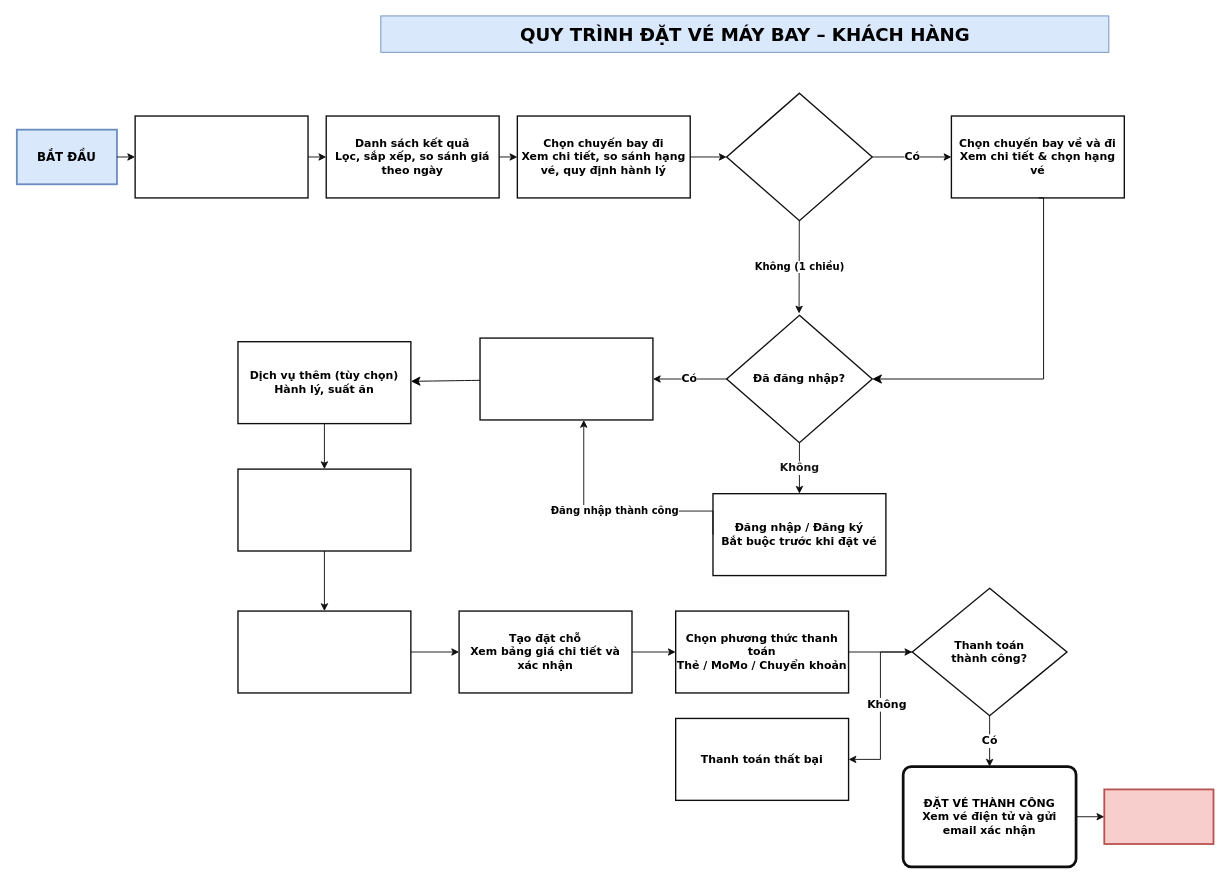
Some shapes in this 1229 by 884 pixel diagram are drawn without their labels. The centre of each missing label's shape, as x and y in pixels:
Chọn chỗ ngồi Sơ đồ ghế máy bay: point (324, 509)
KẾT THÚC: point (1158, 816)
Nhập thông tin hành khách Họ tên, ngày sinh, hộ chiếu/CCCD: point (324, 651)
Tìm kiếm chuyến bay Một chiều / khứ hồi, điểm đi-đến, ngày, số khách, hạng vé: point (221, 156)
Vé khứ hồi?: point (799, 156)
Xác nhận thông tin chuyến bay: point (566, 378)
